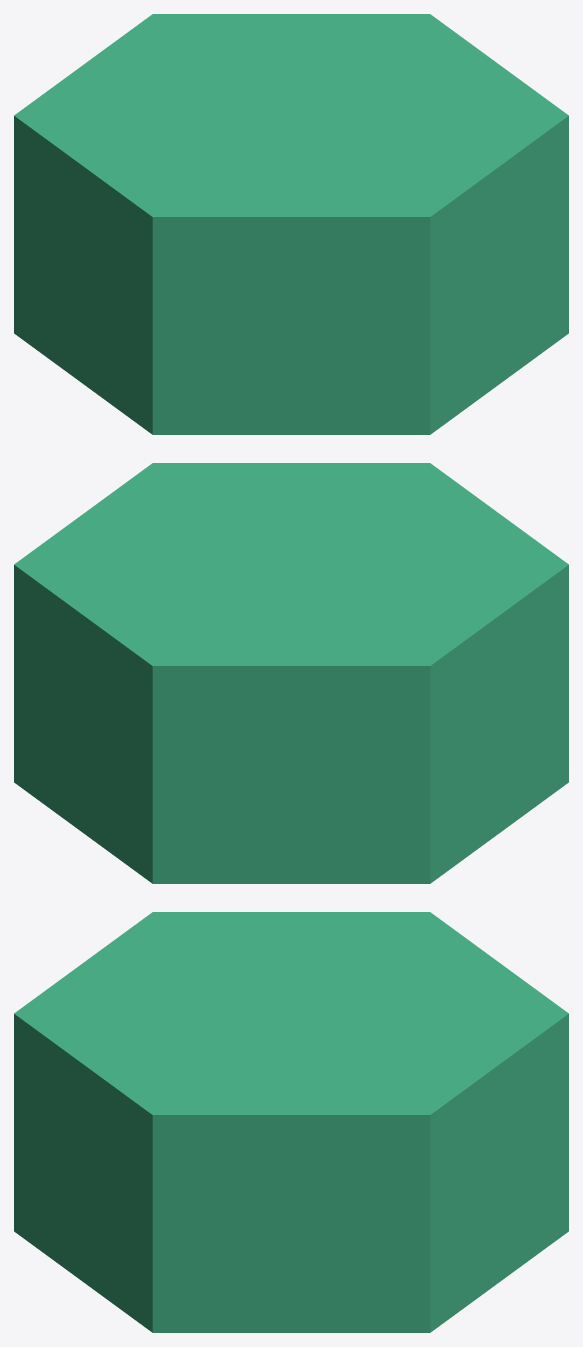
File: hex_forest_Lod0.fbx
The picture shows the model from 3 angles, top to bottom: view 1: azimuth 30°, elevation 25°; view 2: azimuth 150°, elevation 25°; view 3: azimuth 270°, elevation 25°; orthographic projection.
Visible parts, largest first — view 1: hex_forest; view 2: hex_forest; view 3: hex_forest.
Boxes of the visible parts, box(x1,y1,x2,y2) form: hex_forest: box(14, 14, 568, 434); hex_forest: box(14, 463, 568, 883); hex_forest: box(14, 912, 568, 1332).
Size of the model in its own units: 200 by 100 by 231.
